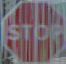Stop: (3, 4, 62, 57)
